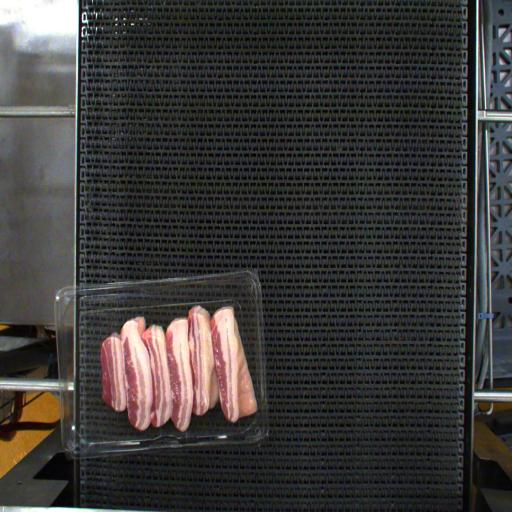twisted-meat: (213, 309, 255, 422)
